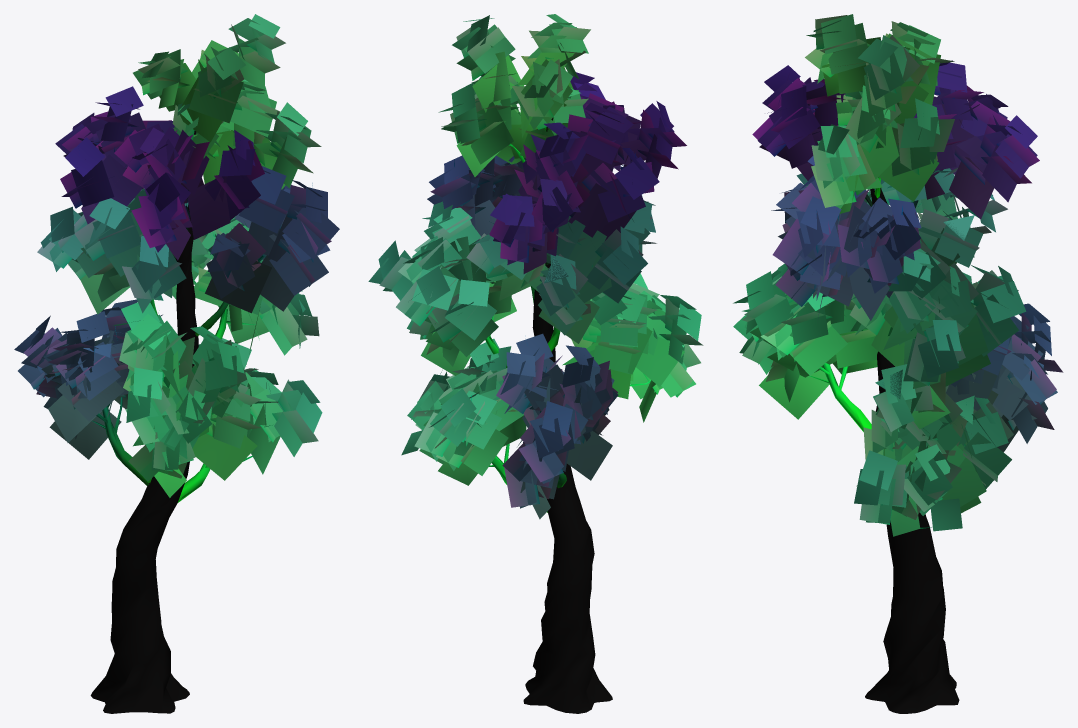
File: Tree_3.fbx
The picture shows the model from 3 angles, left to right: view 1: azimuth 30°, elevation 25°; view 2: azimuth 150°, elevation 25°; view 3: azimuth 270°, elevation 25°; orthographic projection. The views are drawn at different scales.
Visible parts, largest first — view 1: Tree_2; view 2: Tree_2; view 3: Tree_2.
Part boxes in pixels (bbox=[...]): Tree_2: bbox=[14, 14, 339, 713]; Tree_2: bbox=[368, 14, 703, 713]; Tree_2: bbox=[733, 14, 1063, 713].
Bounding box in the file's own units: 401 × 931 × 396.
